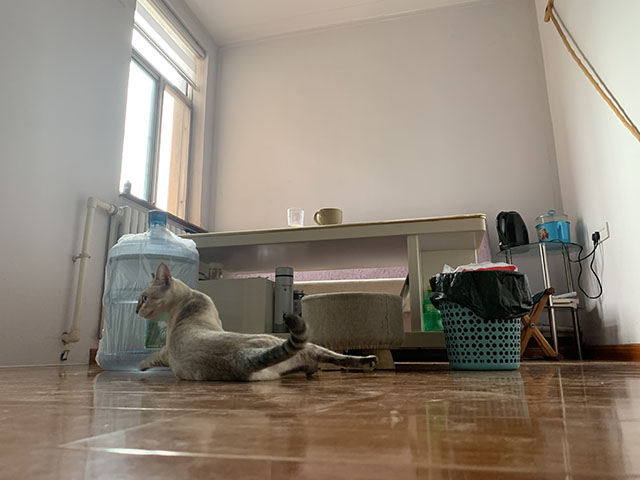stool: (300, 292, 406, 372), (520, 286, 564, 362)
table: (176, 212, 488, 353), (495, 239, 586, 363)
trashcan: (429, 261, 534, 373)
